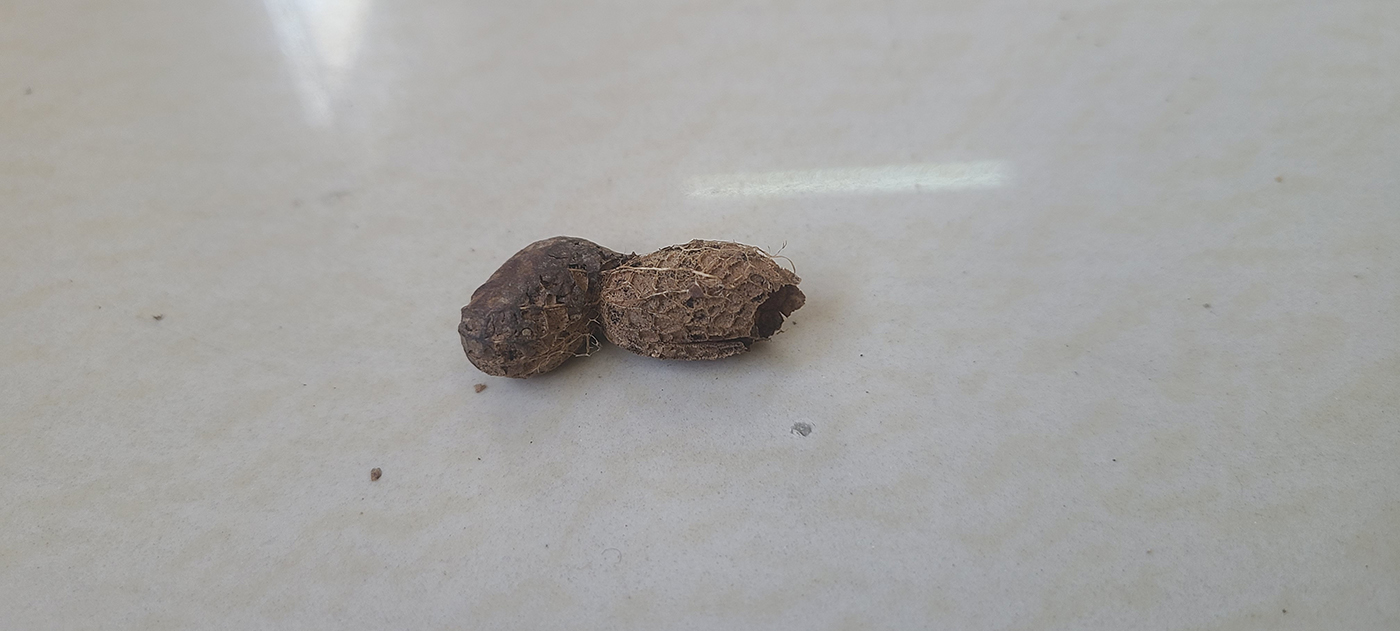l: (456, 234, 809, 382)
